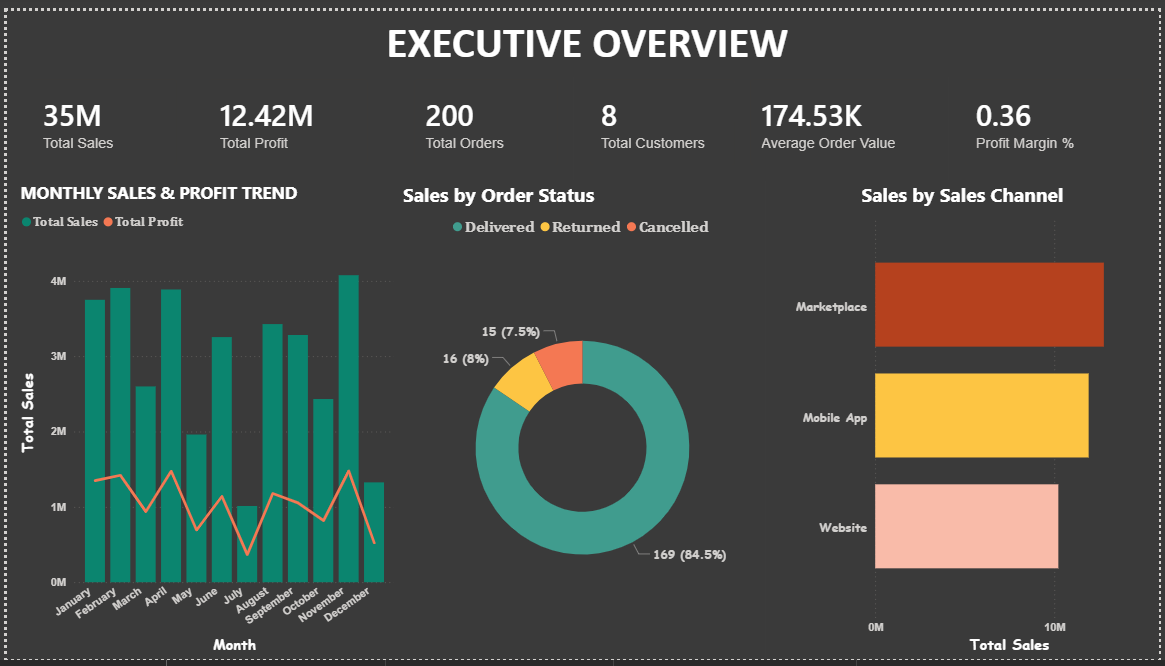

The dashboard page shown, as its layout file describes it:
{"tool":"powerbi","page":{"name":"Executive Overview","canvas":[1280,720],"ordinal":0},"visuals":[{"type":"cardVisual","fields":{"Data":["sales_summary_view.Total Sales"]},"box":[9.4,58.6,196.5,130.4],"z":0},{"type":"cardVisual","fields":{"Data":["sales_summary_view.Total Profit"]},"box":[206,58.6,211.7,130.4],"z":1000},{"type":"cardVisual","fields":{"Data":["sales_summary_view.Total Orders"]},"box":[434.6,58.6,194.6,130.4],"z":2000},{"type":"cardVisual","fields":{"Data":["sales_summary_view.Total Customers"]},"box":[629.3,58.6,196.5,130.4],"z":3000},{"type":"cardVisual","fields":{"Data":["sales_summary_view.Average Order Value"]},"box":[808.8,58.6,238.1,130.4],"z":4000},{"type":"cardVisual","fields":{"Data":["sales_summary_view.Profit Margin %"]},"box":[1046.9,58.6,232.4,130.4],"z":5000},{"type":"lineClusteredColumnComboChart","title":"MONTHLY SALES & PROFIT TREND","fields":{"Y":["sales_summary_view.Total Sales"],"Y2":["sales_summary_view.Total Profit"],"Category":["sales_summary_view.order_month"]},"box":[9.4,189,425.2,531],"z":6000},{"type":"donutChart","title":"Sales by Order Status ","fields":{"Category":["sales_summary_view.order_status"],"Y":["sales_summary_view.Total Orders"]},"box":[434.6,189,408.2,531],"z":7000},{"type":"clusteredBarChart","title":"Sales by Sales Channel","fields":{"Category":["sales_summary_view.sales_channel"],"Y":["sales_summary_view.Total Sales"]},"box":[842.8,189,436.5,531],"z":8000},{"type":"slicer","fields":{"Values":["sales_summary_view.order_year","sales_summary_view.region","sales_summary_view.category","sales_summary_view.segment","sales_summary_view.sales_channel","sales_summary_view.order_status"]},"box":[417.6,151.2,404.4,240],"z":9000},{"type":"textbox","box":[9.4,0,1269.9,73.7],"z":10000}]}

Visuals, with their boxes in screenshot pixels (x1, y1, x2, y2), scaled from the page's 1280x720 canvas onto the 1165x666 screenshot:
cardVisual - sales_summary_view.Total Sales: rect(9, 54, 187, 175)
cardVisual - sales_summary_view.Total Profit: rect(187, 54, 380, 175)
cardVisual - sales_summary_view.Total Orders: rect(396, 54, 573, 175)
cardVisual - sales_summary_view.Total Customers: rect(573, 54, 752, 175)
cardVisual - sales_summary_view.Average Order Value: rect(736, 54, 953, 175)
cardVisual - sales_summary_view.Profit Margin %: rect(953, 54, 1164, 175)
"MONTHLY SALES & PROFIT TREND" lineClusteredColumnComboChart: rect(9, 175, 396, 665)
"Sales by Order Status " donutChart: rect(396, 175, 767, 665)
"Sales by Sales Channel" clusteredBarChart: rect(767, 175, 1164, 665)
slicer - sales_summary_view.order_year x sales_summary_view.region: rect(380, 140, 748, 362)
textbox: rect(9, 0, 1164, 68)
